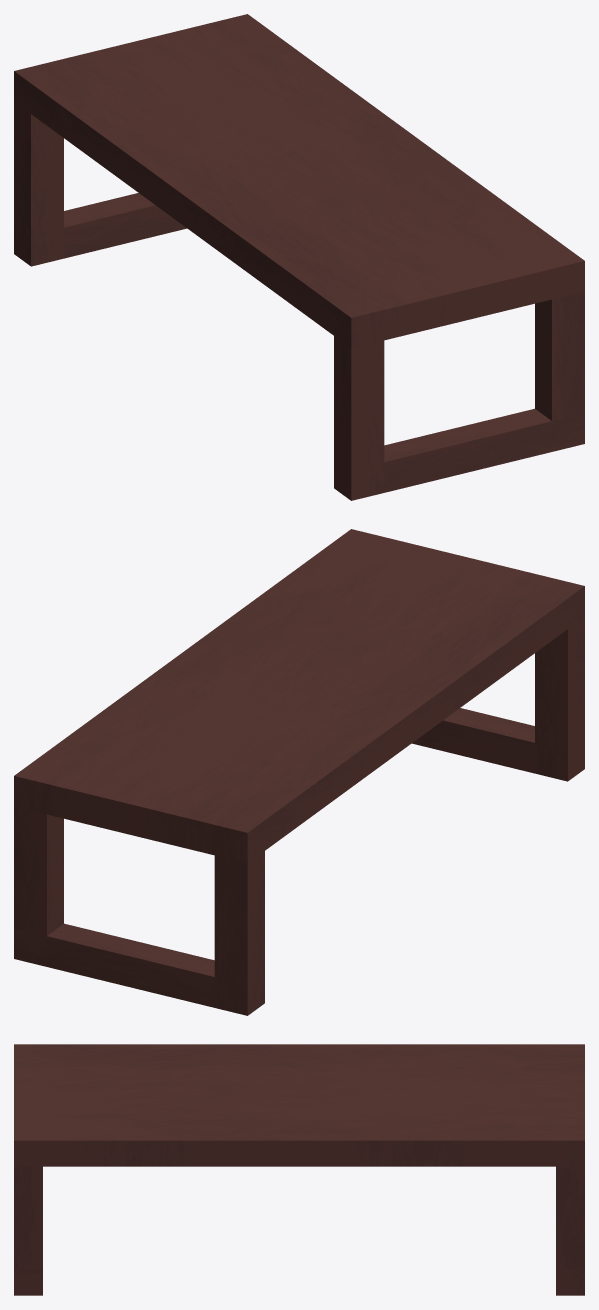
The model's file is A_3DUV_MC.fbx.
3 renders of one model, top to bottom at view 1: azimuth 30°, elevation 25°; view 2: azimuth 150°, elevation 25°; view 3: azimuth 270°, elevation 25°, orthographic. The views are drawn at different scales.
Parts seen in each view (by area): view 1: Mesa_centro; view 2: Mesa_centro; view 3: Mesa_centro.
Part boxes in pixels (x1,y1,x2,y2): Mesa_centro: (14,14,584,500); Mesa_centro: (14,529,584,1015); Mesa_centro: (14,1044,584,1295).
Size of the model in its own units: 4 by 2.99 by 10.
1 material, 1 textured.
